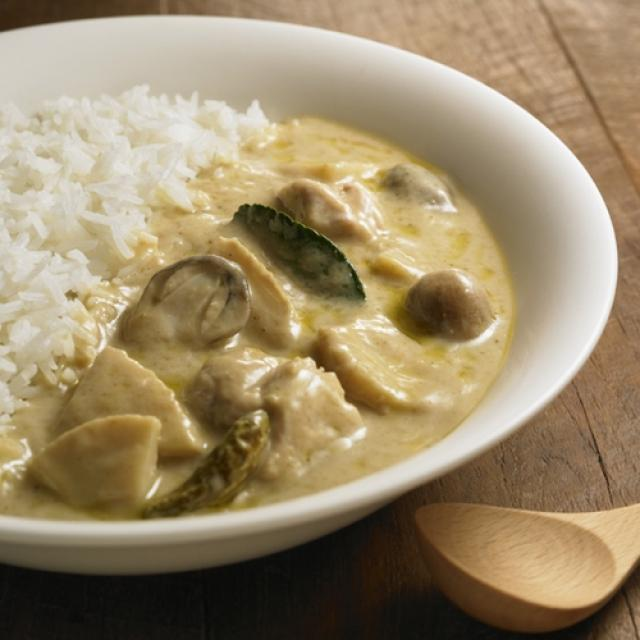熟制海鲜: (20, 4, 635, 640)
